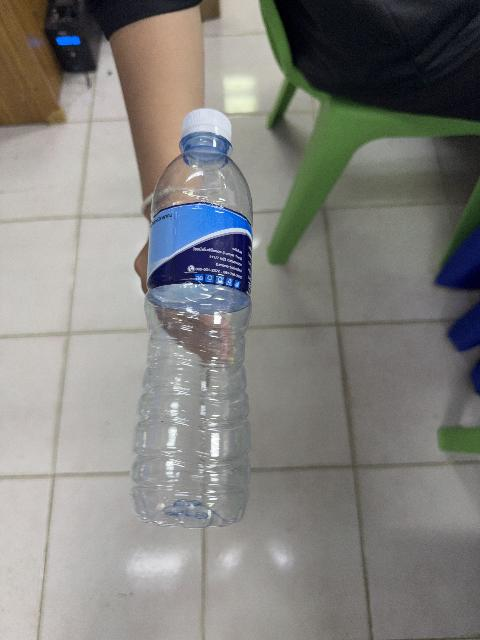bottle: (132, 109, 252, 527)
